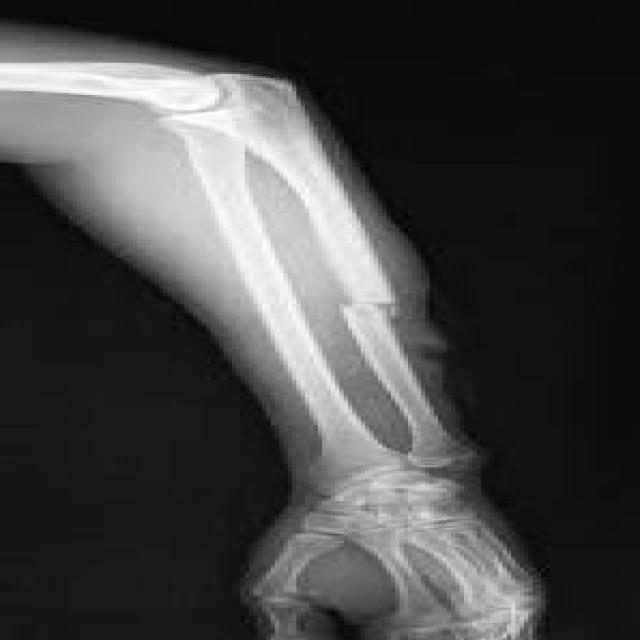bone: (328, 288, 406, 330)
